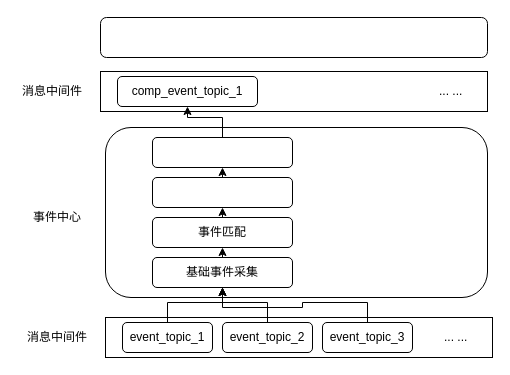
This 510x375 diagram has some shape labels left out. Each missing label, with the centre of its shape:
"事件组合" belongs at point (222, 192).
"事件订阅" belongs at point (222, 152).
"实时营销" belongs at point (294, 37).
